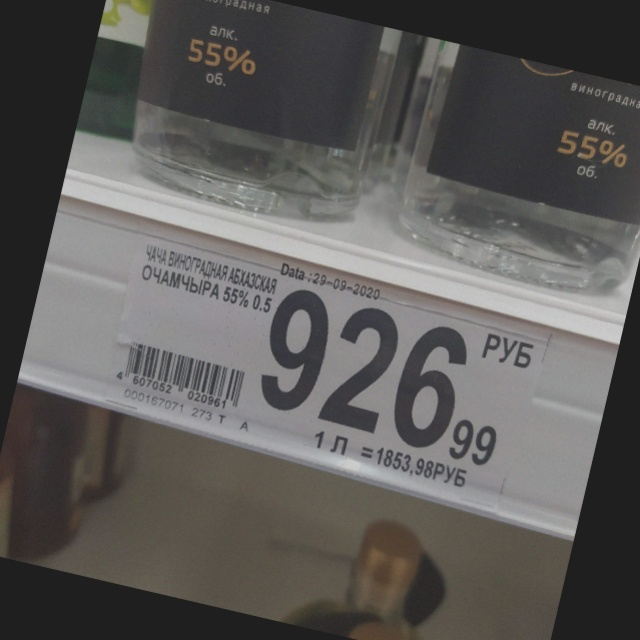barcode: (115, 337, 248, 410)
name: (134, 242, 280, 318)
price: (255, 288, 501, 469)
price_tag: (115, 236, 544, 516)
